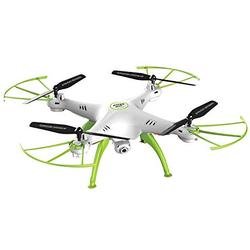drone: (2, 67, 248, 190)
